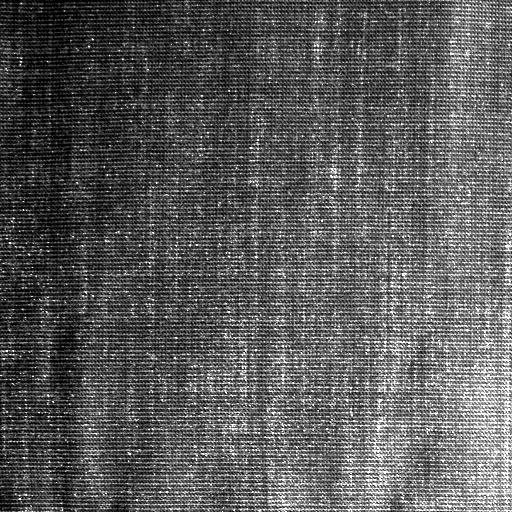fabric_perfect: (4, 5, 500, 503)
